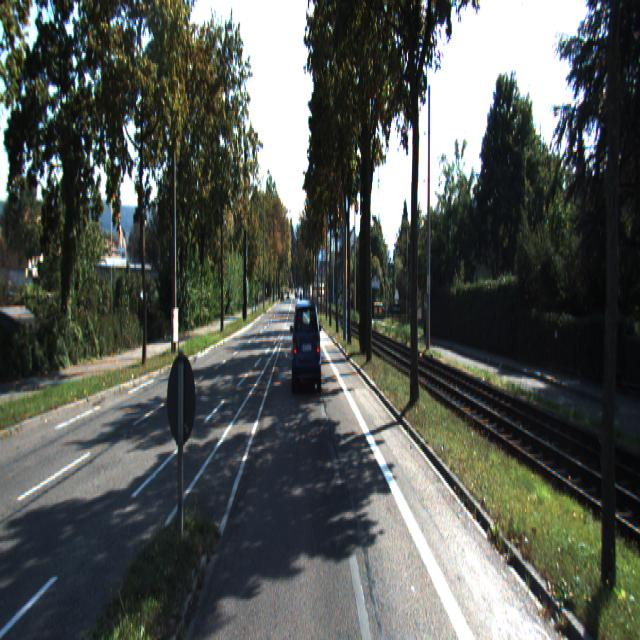Car: (291, 297, 322, 396)
